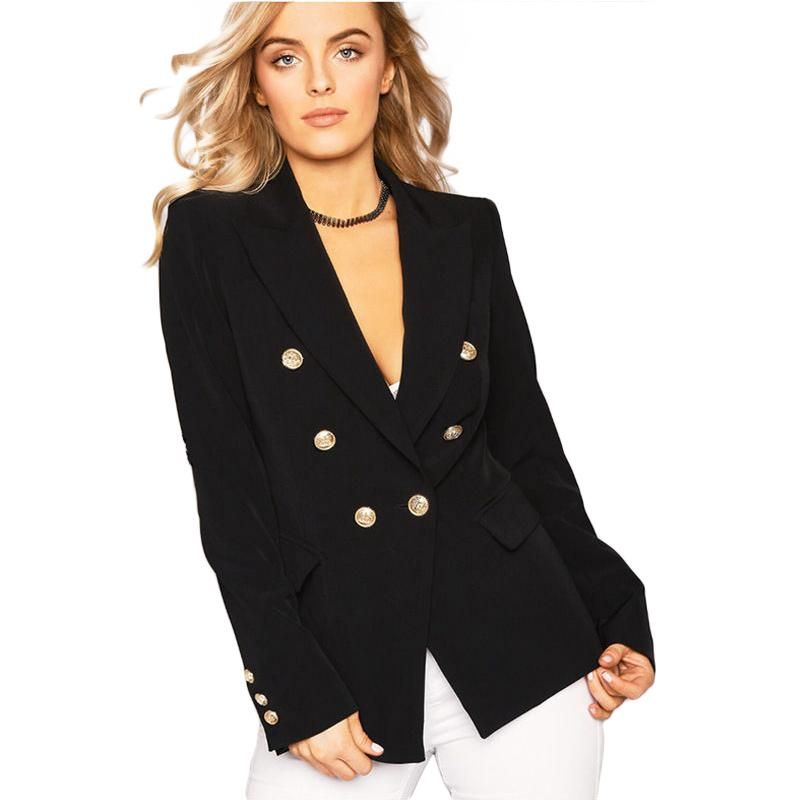F_W_suit jacket: (148, 162, 652, 723)
